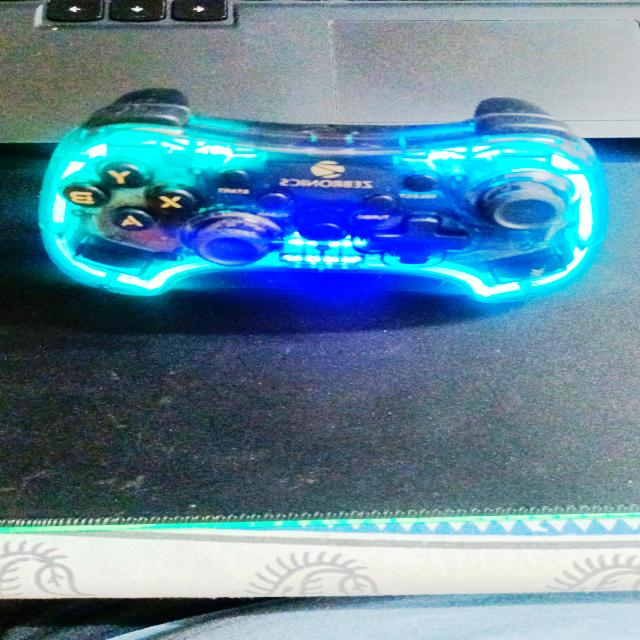gamepad: (36, 87, 610, 304)
